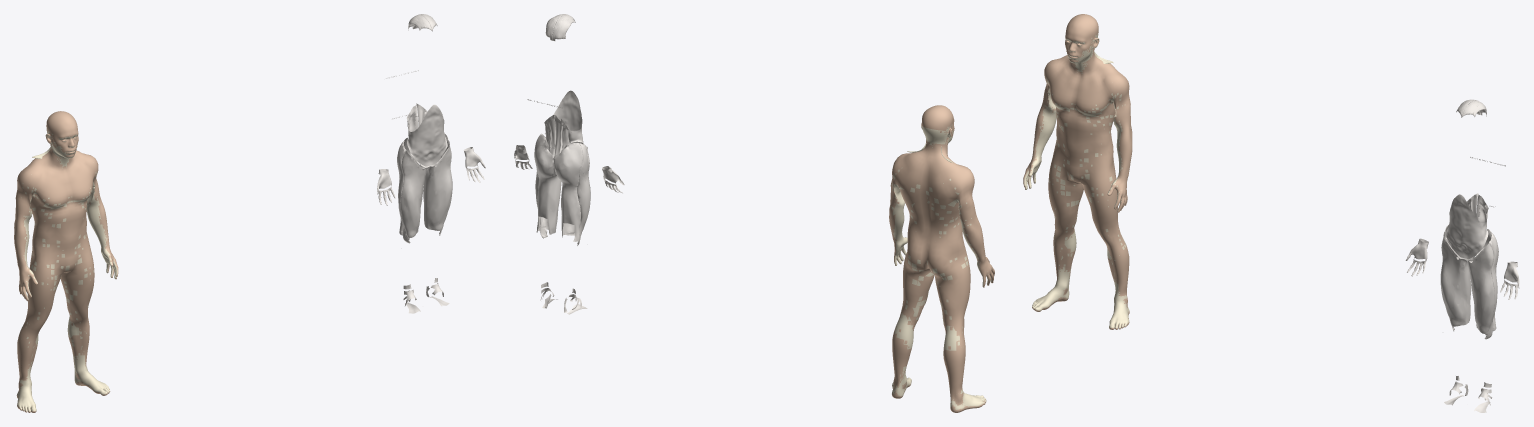
File: skin_fascia.glb
3 views of the same model, side by side, from view 1: azimuth 30°, elevation 25°; view 2: azimuth 150°, elevation 25°; view 3: azimuth 330°, elevation 25° (orthographic). The views are drawn at different scales.
Parts seen in each view (by area): view 1: Skin_Body, Fascia_Superficial, Fascia_Deep_Lata, Fascia_Deep_Transversalis, Fascia_Deep_Palmar, Fascia_Deep_IT_Band, Fascia_Deep_Retinacula; view 2: Skin_Body, Fascia_Superficial, Fascia_Deep_Lata, Fascia_Deep_IT_Band, Fascia_Deep_Transversalis, Fascia_Deep_Thoracolumbar, Fascia_Deep_Galea, Fascia_Deep_Retinacula, Fascia_Deep_Palmar; view 3: Skin_Body, Fascia_Superficial, Fascia_Deep_Lata, Fascia_Deep_Transversalis, Fascia_Deep_Palmar, Fascia_Deep_IT_Band, Fascia_Deep_Retinacula.
Part boxes in pixels (x1=…): Skin_Body: x1=14, y1=111, x2=118, y2=412; Fascia_Superficial: x1=17, y1=129, x2=117, y2=411; Fascia_Deep_Lata: x1=397, y1=137, x2=452, y2=237; Fascia_Deep_Transversalis: x1=407, y1=104, x2=447, y2=166; Fascia_Deep_Palmar: x1=377, y1=152, x2=485, y2=205; Fascia_Deep_IT_Band: x1=397, y1=133, x2=450, y2=248; Fascia_Deep_Retinacula: x1=378, y1=147, x2=474, y2=305; Skin_Body: x1=889, y1=105, x2=994, y2=412; Fascia_Superficial: x1=890, y1=124, x2=992, y2=409; Fascia_Deep_Lata: x1=534, y1=134, x2=590, y2=241; Fascia_Deep_IT_Band: x1=535, y1=133, x2=590, y2=245; Fascia_Deep_Transversalis: x1=545, y1=90, x2=584, y2=151; Fascia_Deep_Thoracolumbar: x1=527, y1=99, x2=569, y2=155; Fascia_Deep_Galea: x1=545, y1=14, x2=575, y2=41; Fascia_Deep_Retinacula: x1=516, y1=145, x2=612, y2=312; Fascia_Deep_Palmar: x1=514, y1=147, x2=624, y2=193; Skin_Body: x1=1023, y1=14, x2=1132, y2=329; Fascia_Superficial: x1=1024, y1=31, x2=1130, y2=328; Fascia_Deep_Lata: x1=1440, y1=229, x2=1498, y2=333; Fascia_Deep_Transversalis: x1=1445, y1=194, x2=1488, y2=259; Fascia_Deep_Palmar: x1=1405, y1=244, x2=1519, y2=299; Fascia_Deep_IT_Band: x1=1442, y1=224, x2=1498, y2=339; Fascia_Deep_Retinacula: x1=1418, y1=238, x2=1517, y2=405.
Size of the model in its own units: 2.89 by 1.71 by 0.3961.
